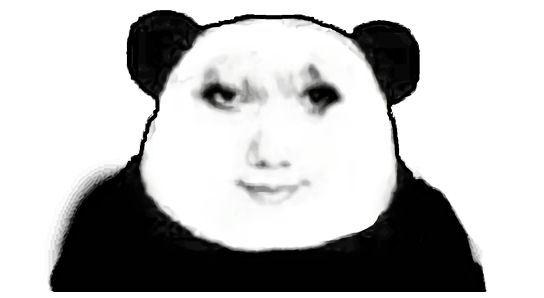dragon: (189, 65, 352, 209)
